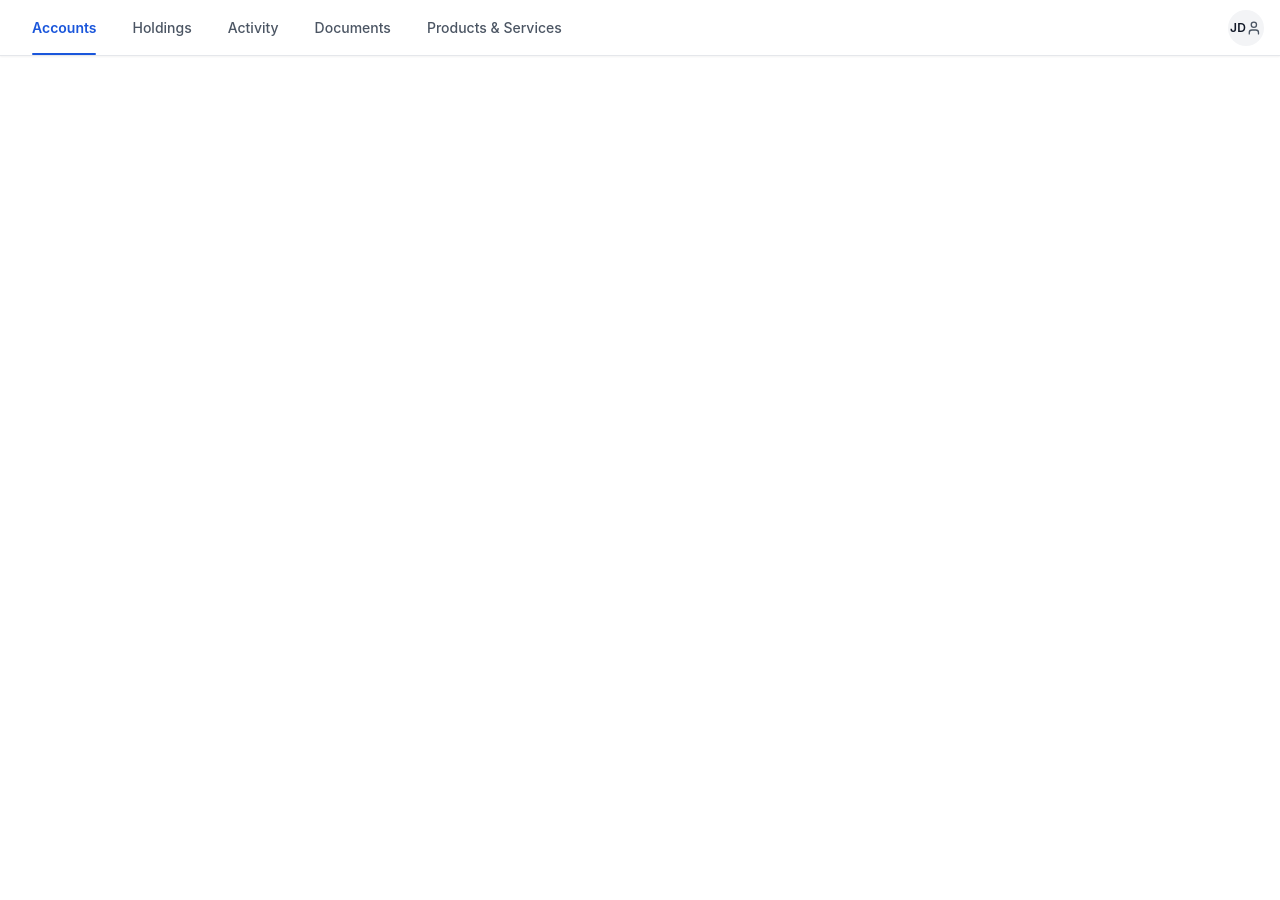
Test: ProfileMenu › Opening and Closing › closes the menu when clicking outside
The width and height of the screenshot is (1280, 900).
Click the button with aria-label "Open user menu": click(1246, 28) [1228,10,1264,46]
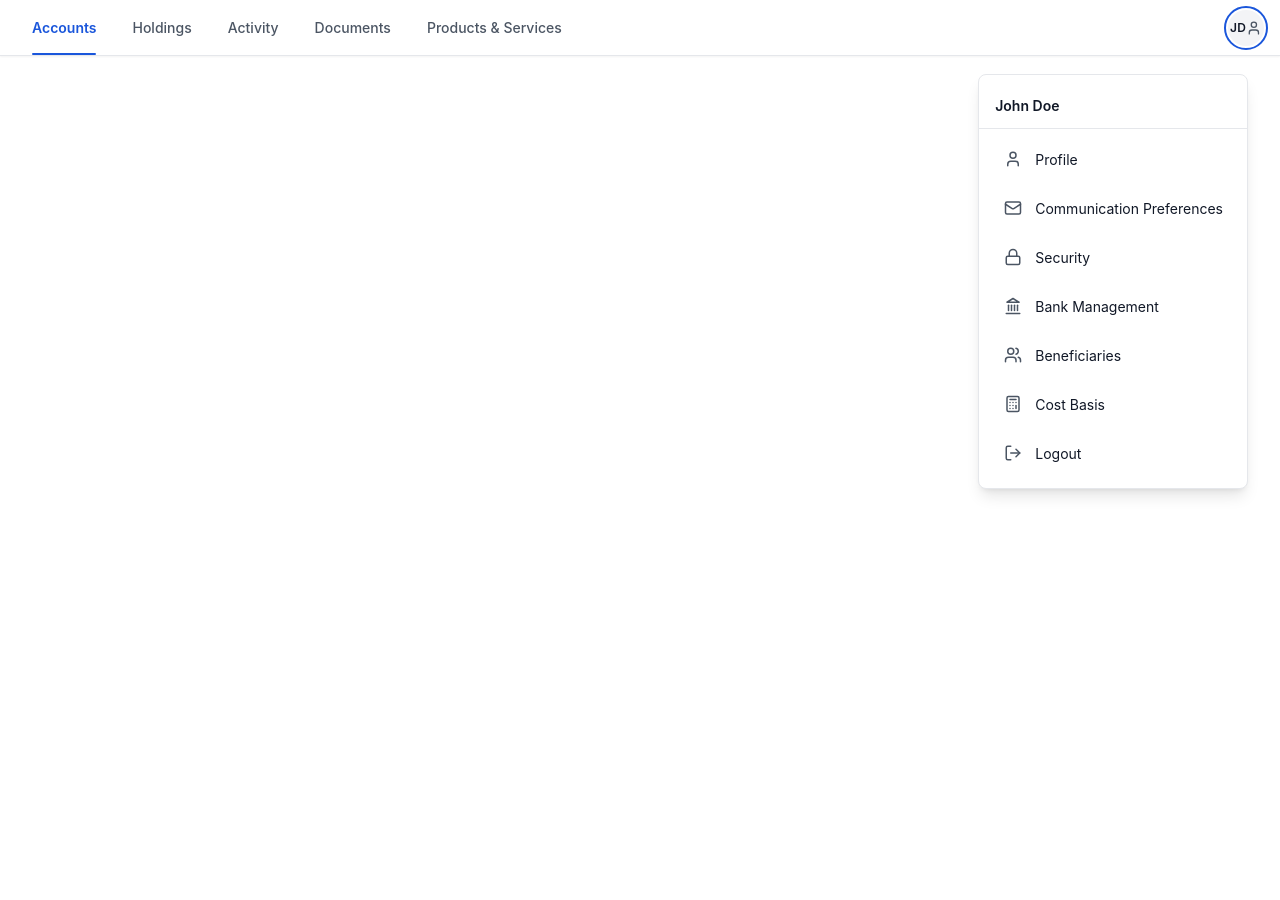
expect the menu named "User menu" is shown: met, box [978,74,1248,488]
Click the element that starts with "Accounts": click(640, 450) [0,0,1279,899]
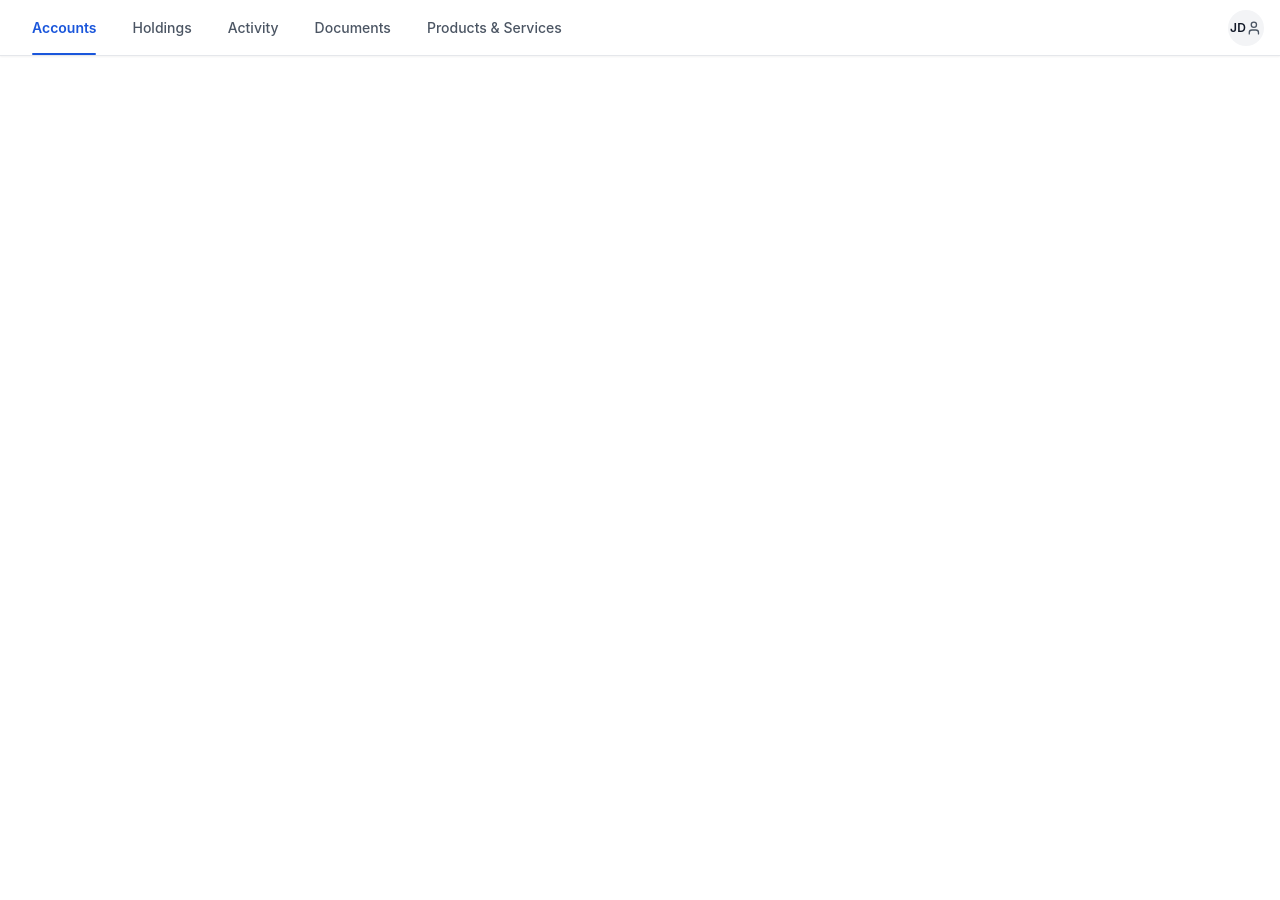
expect the menu "User menu" is gone: met
